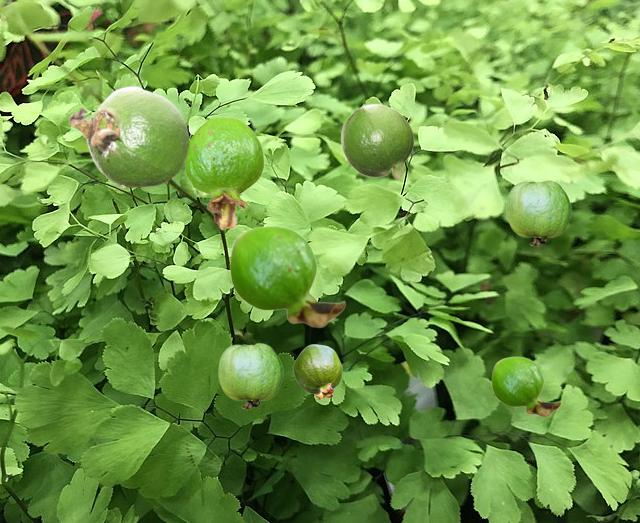guava: (68, 85, 189, 187), (229, 225, 345, 327), (184, 116, 263, 229), (340, 103, 413, 179), (506, 180, 570, 245), (218, 343, 282, 408), (491, 356, 560, 416), (293, 344, 341, 399)
